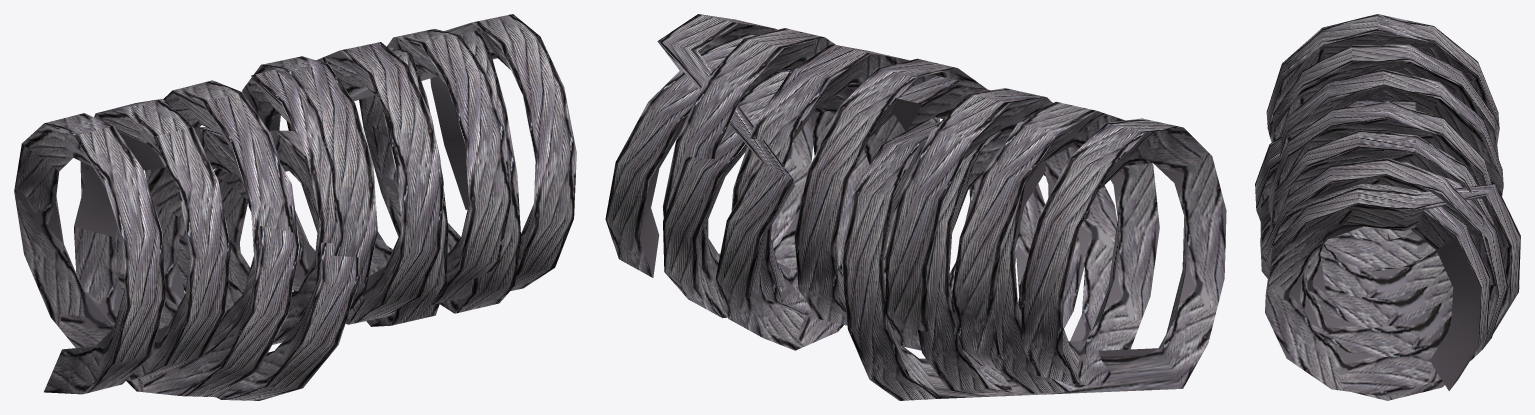
Rendered from CableMalEnrollado.fbx.
3 renders of one model, left to right at view 1: azimuth 30°, elevation 25°; view 2: azimuth 150°, elevation 25°; view 3: azimuth 270°, elevation 25°, orthographic. The views are drawn at different scales.
Visible parts, largest first — view 1: pCylinder29, pCylinder30; view 2: pCylinder29, pCylinder30; view 3: pCylinder30, pCylinder29.
Part boxes in pixels (left/top/right/bottom): pCylinder29: left=14, top=69, right=359, bottom=400; pCylinder30: left=228, top=14, right=576, bottom=326; pCylinder29: left=841, top=76, right=1226, bottom=400; pCylinder30: left=605, top=14, right=986, bottom=350; pCylinder30: left=1265, top=101, right=1520, bottom=400; pCylinder29: left=1255, top=14, right=1503, bottom=278.
Bounding box in the file's own units: 212 × 120 × 113.
1 material, 1 textured.
